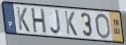3: (80, 12, 93, 38)
H: (31, 7, 48, 35)
J: (49, 9, 63, 36)
K: (63, 10, 79, 37), (16, 6, 31, 33)
O: (95, 13, 112, 40)
